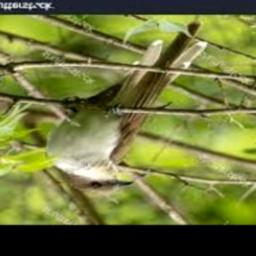Cuckoo: (49, 23, 207, 195)
